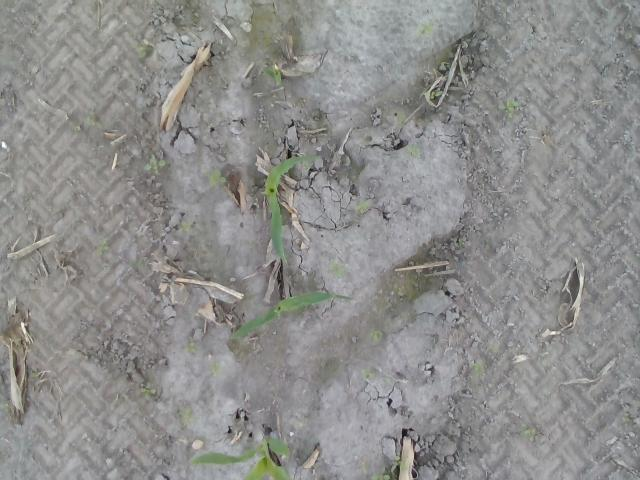Maize: (231, 292, 356, 340), (264, 154, 320, 260), (189, 425, 290, 480)
Weeds: (360, 465, 390, 480), (264, 65, 284, 85), (143, 156, 166, 172), (207, 169, 225, 187), (96, 238, 112, 256), (520, 425, 538, 441), (140, 382, 155, 401), (504, 97, 519, 114), (408, 144, 423, 160), (328, 260, 341, 278), (417, 20, 432, 35), (369, 328, 384, 343), (136, 44, 152, 58), (390, 456, 400, 477), (182, 407, 194, 422), (355, 200, 369, 212), (184, 341, 197, 353), (474, 362, 484, 374), (178, 221, 190, 231), (361, 368, 369, 382), (429, 90, 443, 98), (210, 362, 218, 372)
